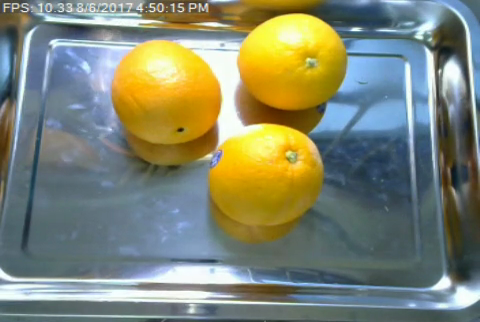Orange: (207, 122, 325, 225), (109, 39, 222, 144), (238, 13, 349, 111)
